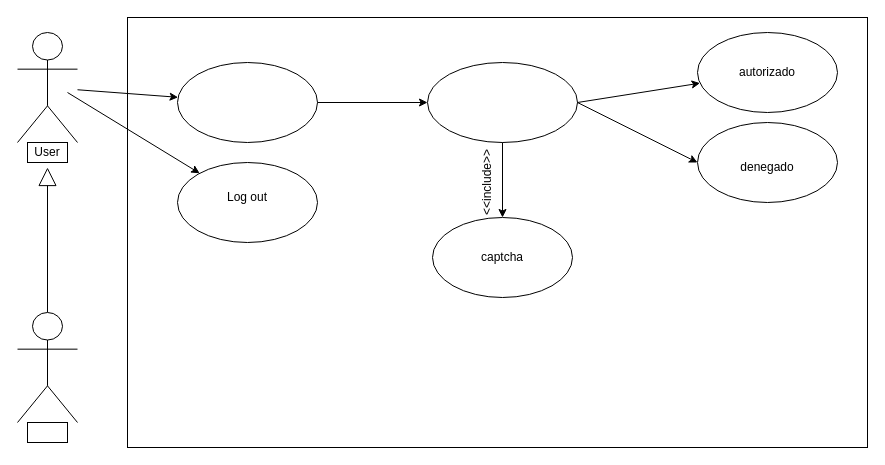
The diagram is 885 pixels wide and 465 high, and some of its shapes have lost their labels. The centre of each missing label's shape, as x and y in pixels:
Admin: the point at 47,432
Log in: the point at 247,102
verificar datos: the point at 502,102
